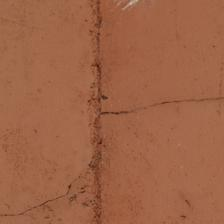Crack: (80, 4, 113, 223), (3, 177, 81, 219), (105, 92, 223, 118)
